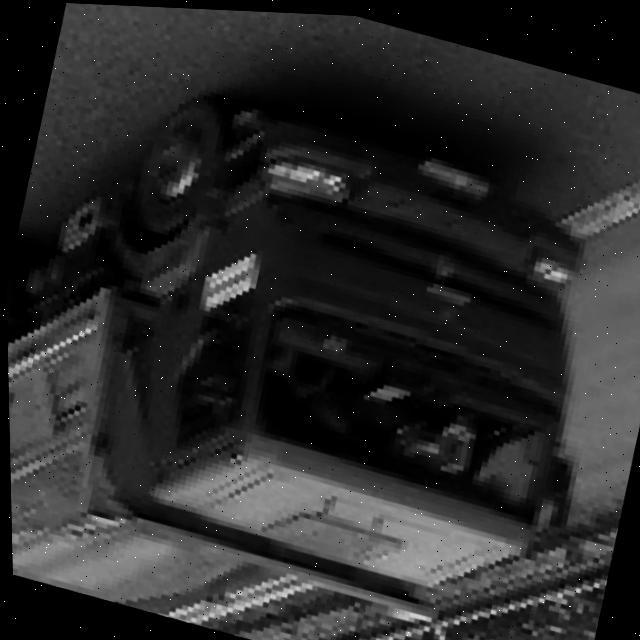truck: (1, 41, 630, 640)
